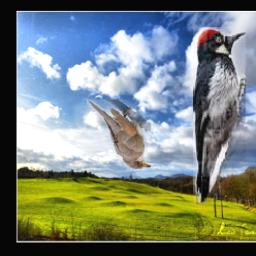Cuckoo: (87, 100, 151, 170)
Woodpecker: (194, 27, 247, 203)
